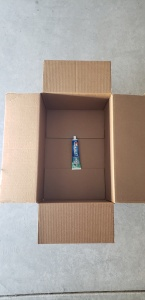innerbox: (41, 95, 112, 201)
outerbox: (3, 60, 145, 244)
product: (71, 134, 83, 171)
